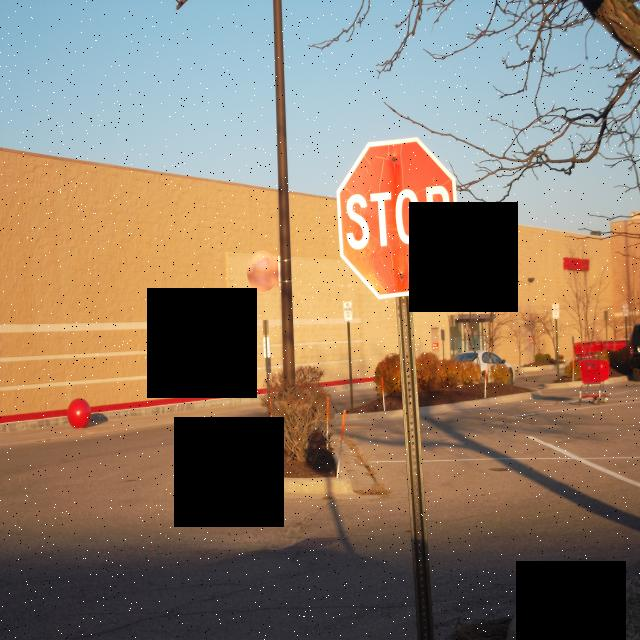regulatory: (343, 301, 353, 322), (550, 302, 561, 319)
stop: (335, 133, 466, 304)
